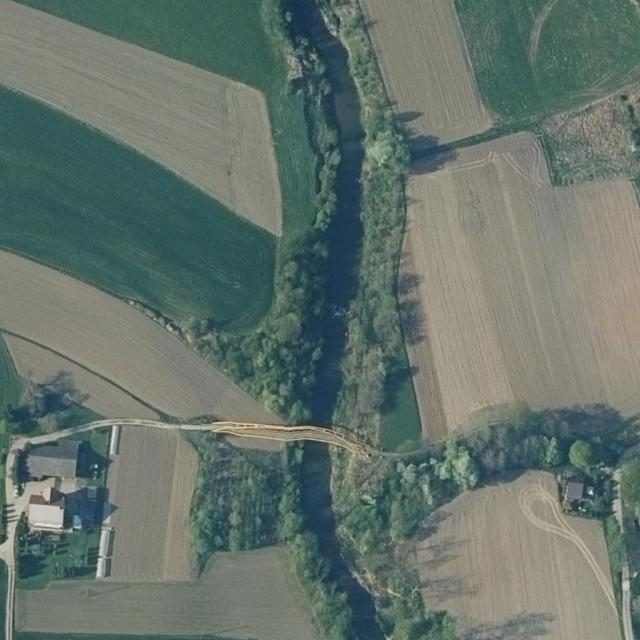agricultural_land: (380, 118, 640, 443), (0, 85, 307, 360), (358, 0, 495, 157), (107, 426, 198, 581), (1, 331, 24, 416)
building: (26, 438, 106, 478), (27, 486, 66, 532), (64, 486, 104, 530), (26, 477, 89, 494), (565, 481, 585, 503)
greenland: (179, 142, 453, 433), (318, 0, 420, 451), (363, 393, 571, 543), (331, 450, 431, 640), (186, 428, 290, 566), (0, 365, 101, 444), (17, 542, 98, 579), (278, 444, 304, 544), (626, 541, 640, 640), (566, 439, 598, 473)
unmetalled_road: (10, 419, 389, 456), (0, 446, 30, 640), (95, 501, 117, 580), (612, 469, 622, 531), (109, 425, 120, 457)
